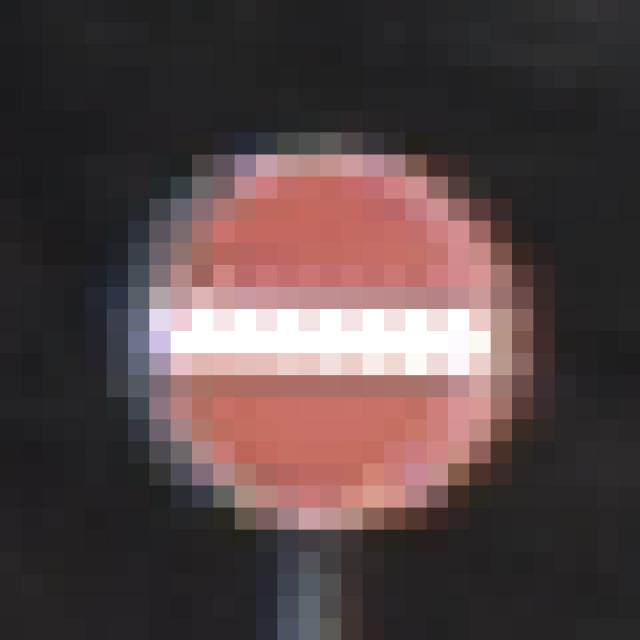No Entry: (108, 111, 534, 531)
